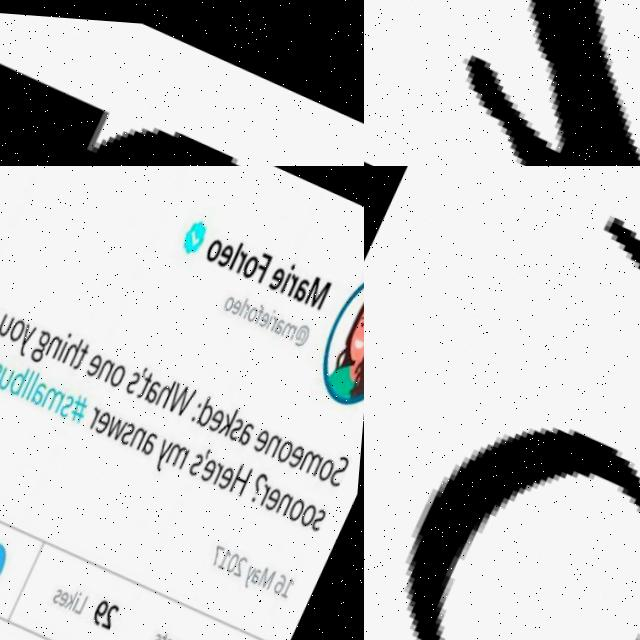2: (280, 563, 296, 586)
3: (216, 535, 233, 558)
5: (98, 589, 120, 623)
6: (364, 168, 640, 640)
I: (364, 0, 640, 166)
Q: (0, 5, 364, 166)
